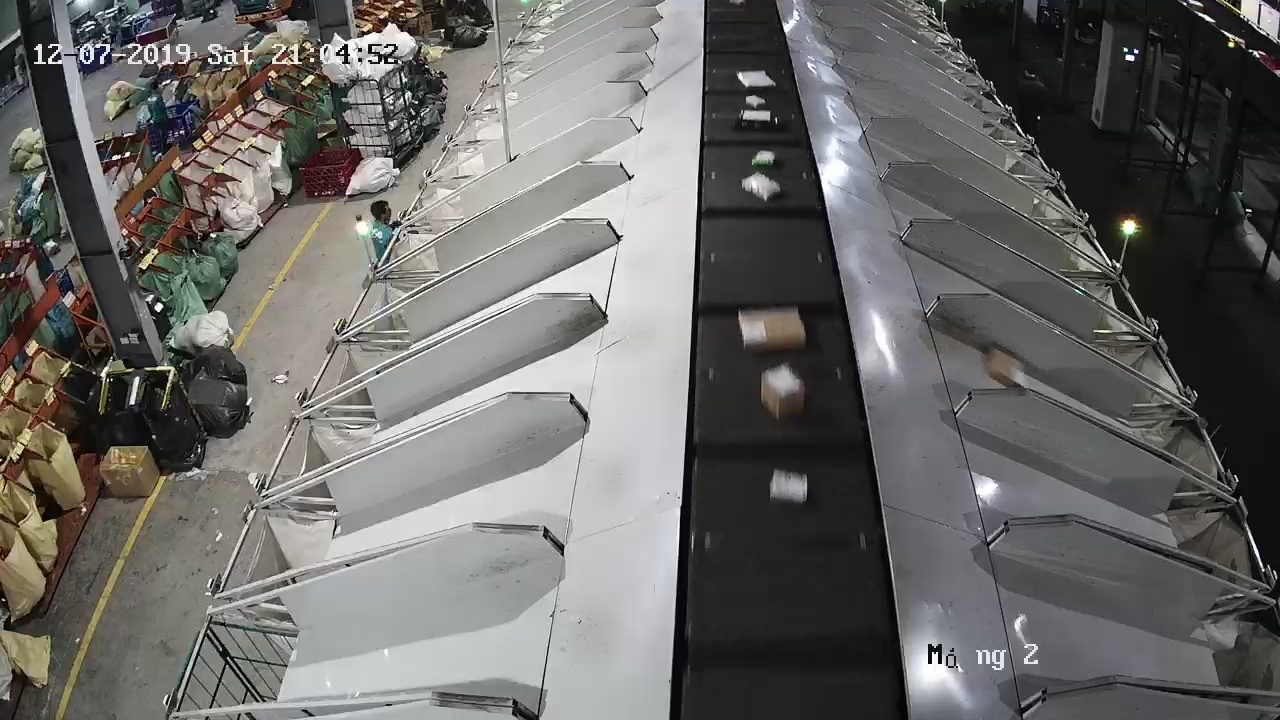parcel: (983, 346, 1026, 388)
